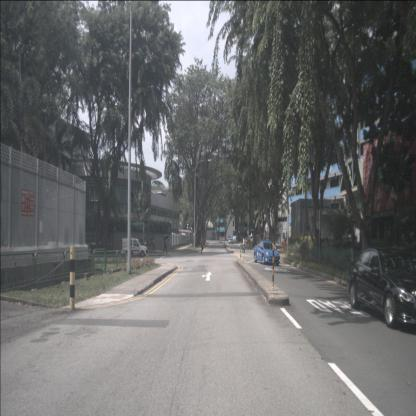human-pedestrian-adult: (163, 235, 169, 254), (151, 236, 156, 254), (200, 237, 205, 254), (242, 236, 245, 253)
vehicle-car: (347, 247, 416, 328), (254, 241, 280, 266), (244, 236, 256, 244), (229, 237, 234, 244)
vehicle-truck: (122, 238, 148, 258)
